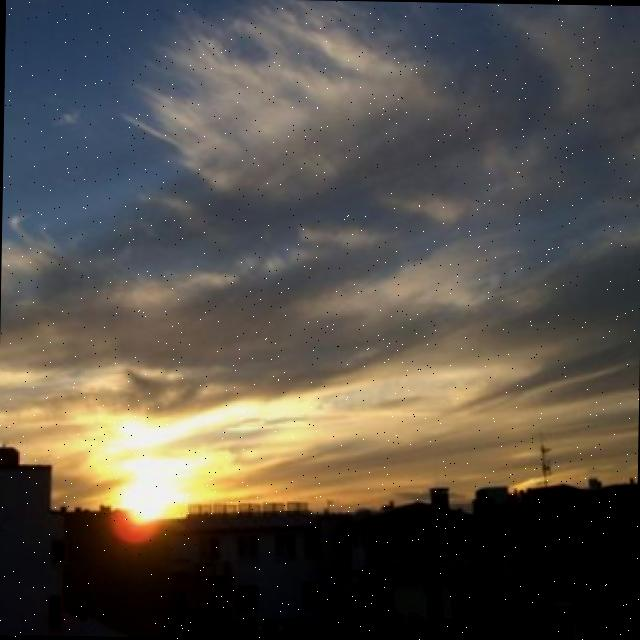Ci: (1, 1, 640, 403)
